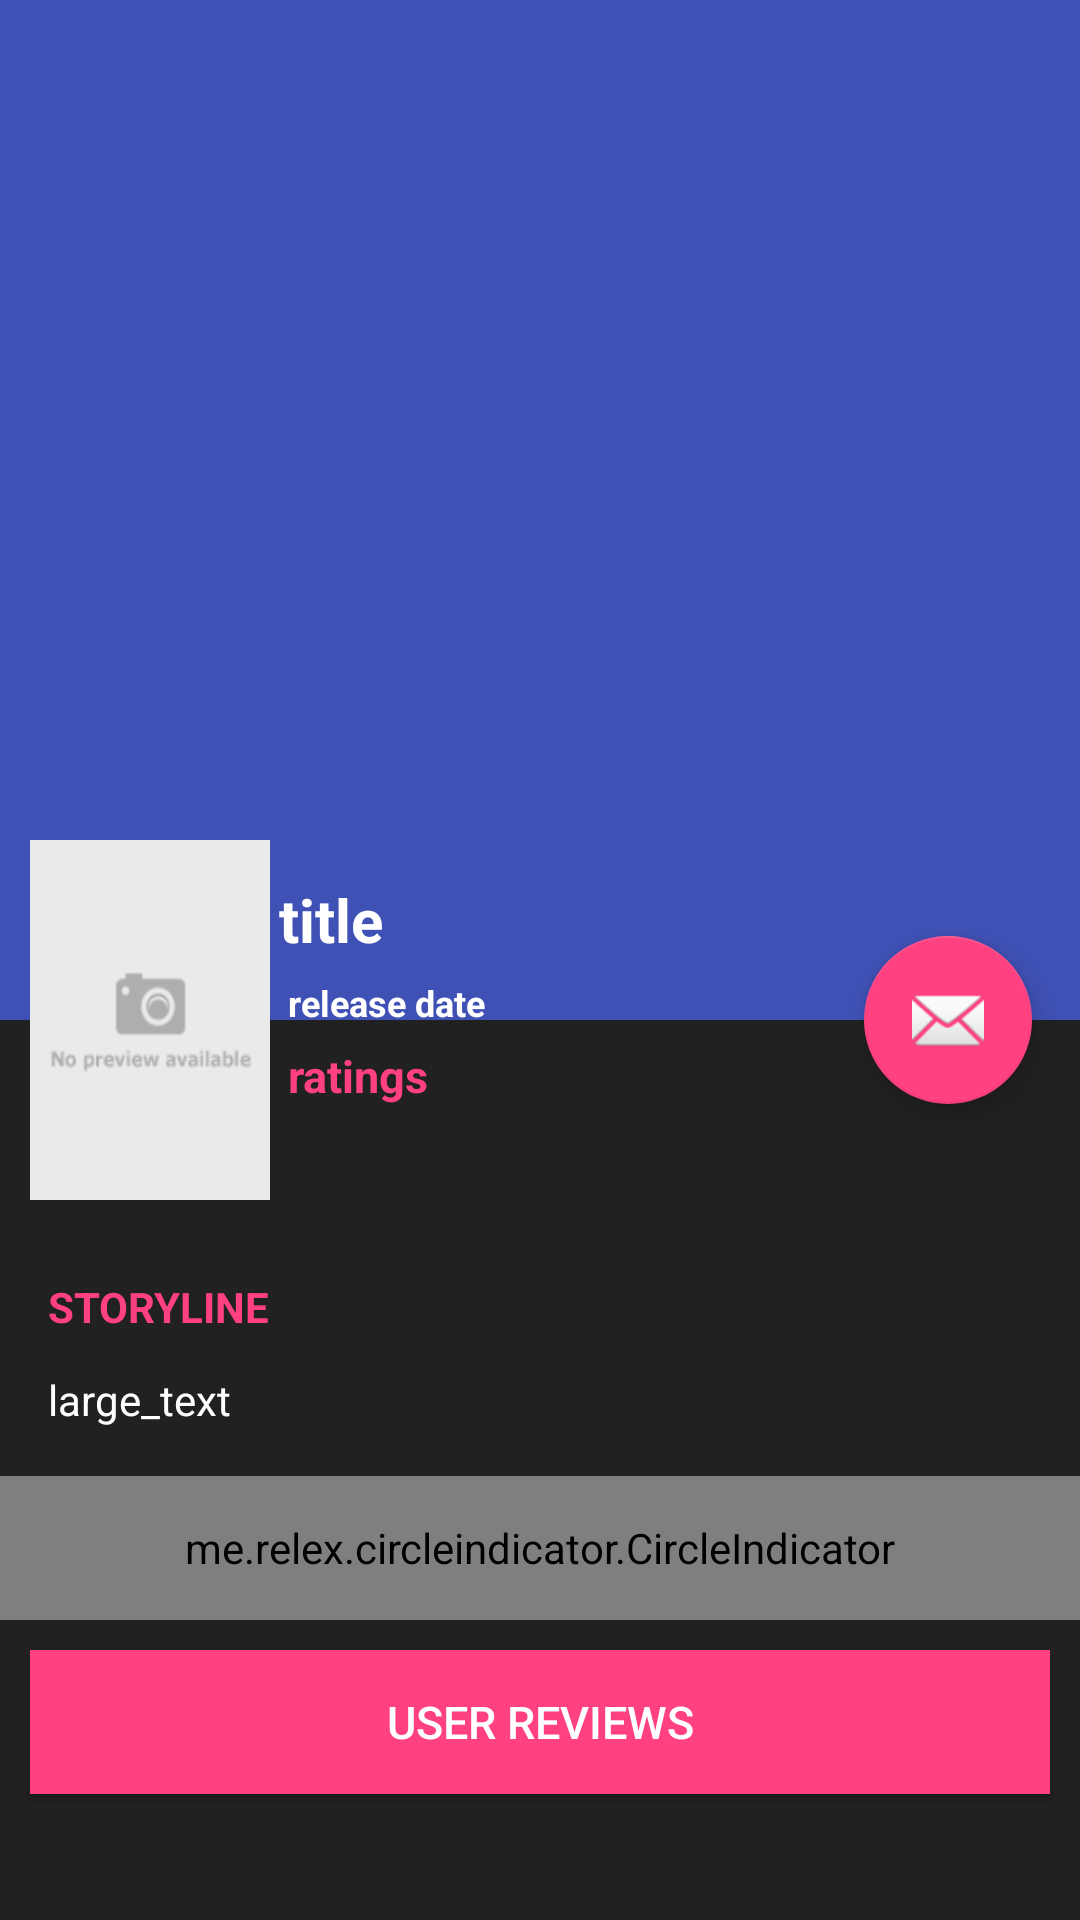

Screen size 1080*1920. Icon name, then its center in pixels as point (x, y):
email: point (948, 1020)
